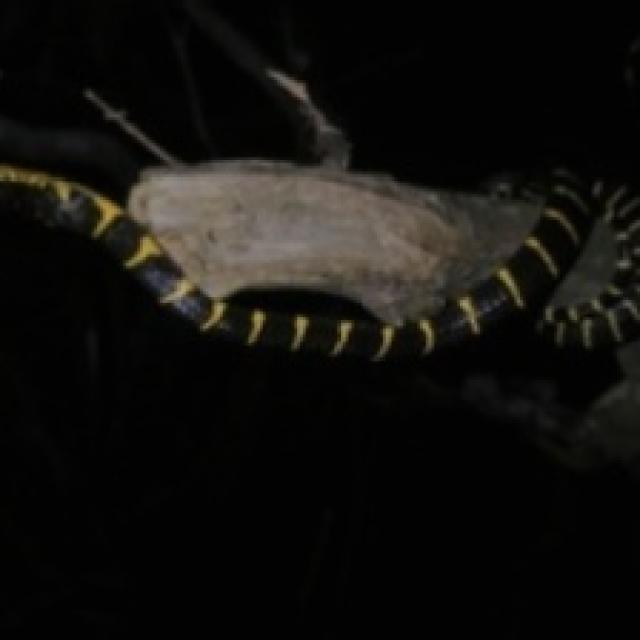mangrove cat snake: (0, 163, 637, 357)
